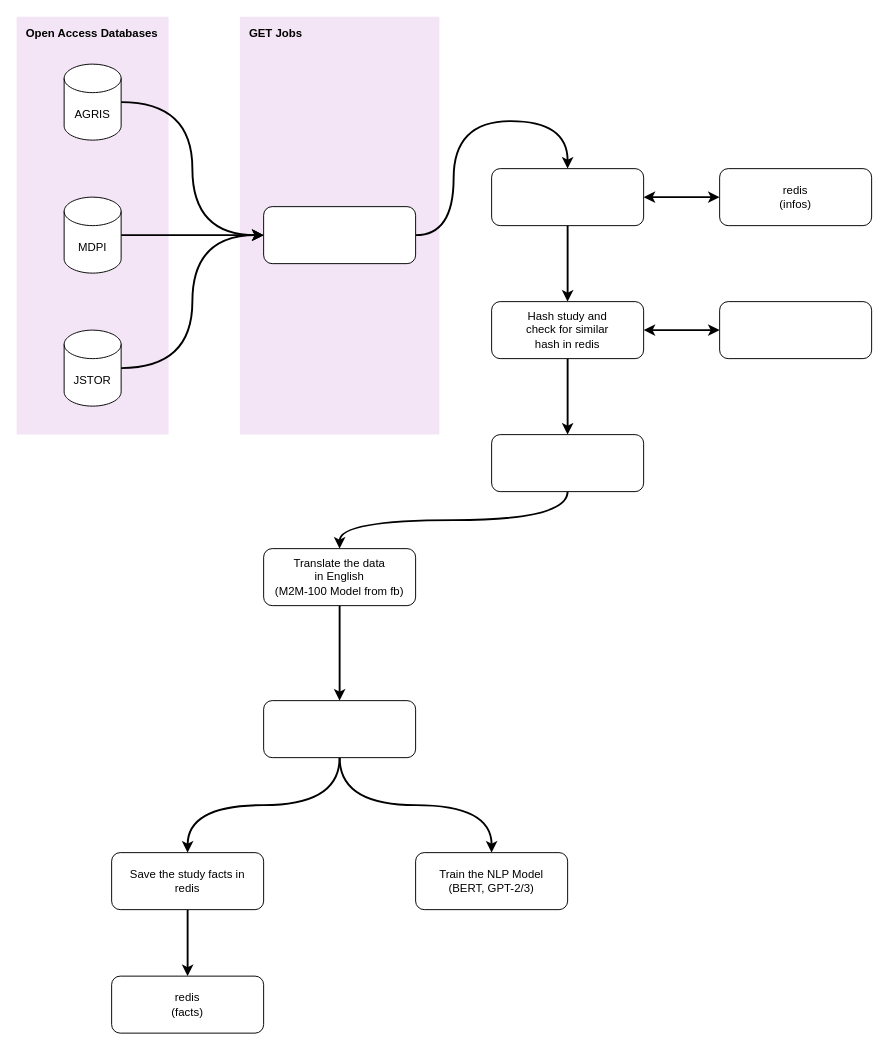
Some shapes in this 888 by 1050 pixel diagram are drawn without their labels. Each missing label, with the centre of its shape:
"Check for similar infos in redis" goes at (x=567, y=197).
"Extract the text and format the tables in text from the study" goes at (x=567, y=463).
"Get the quality and the kind of study" goes at (x=339, y=729).
"redis (hash)" goes at (x=795, y=330).
"Scrap study infos and download the study" goes at (x=339, y=235).
